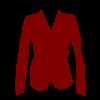camicia: (14, 8, 86, 96)
